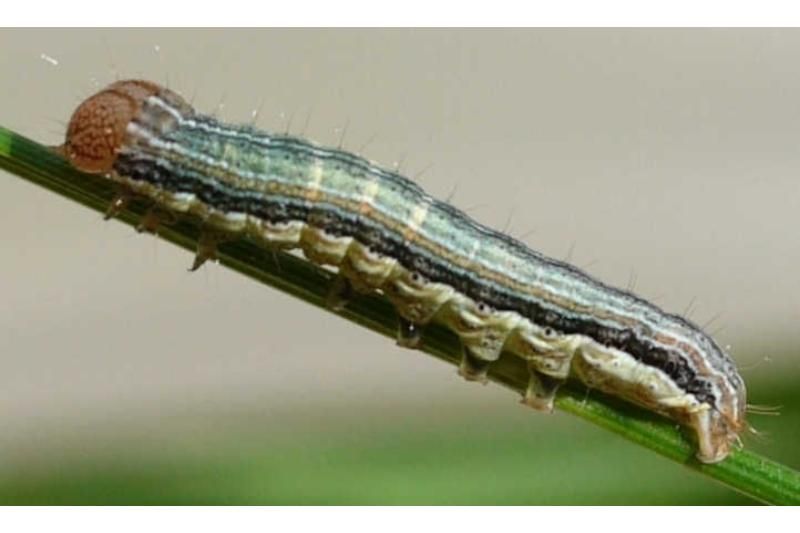fall-armyworm: (60, 81, 748, 467)
